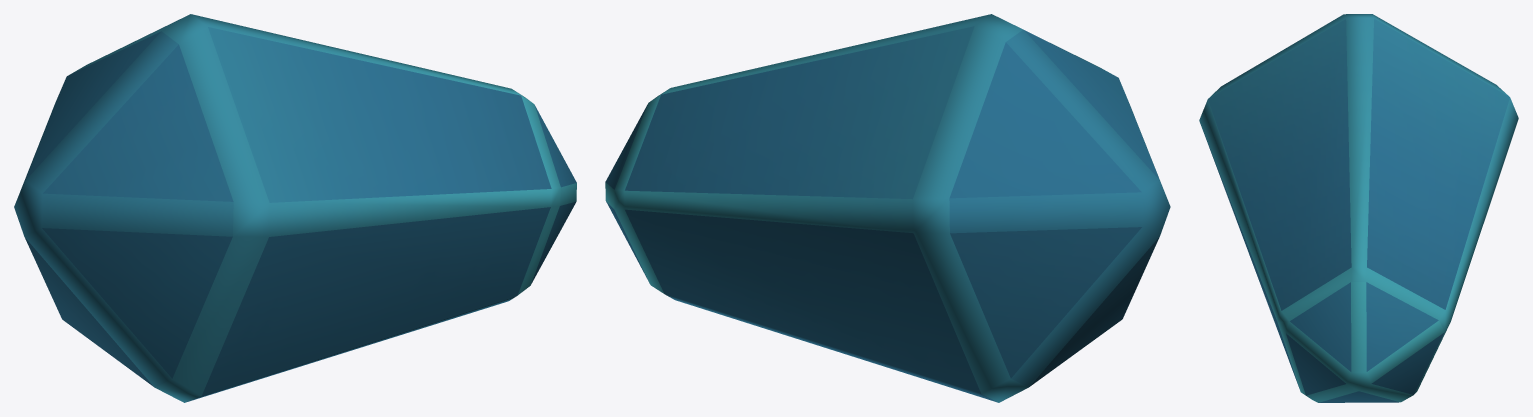
File: christal_saphire_3.fbx
The picture shows the model from 3 angles, left to right: view 1: azimuth 30°, elevation 25°; view 2: azimuth 150°, elevation 25°; view 3: azimuth 270°, elevation 25°; orthographic projection. The views are drawn at different scales.
Visible parts, largest first — view 1: christal_saphire_3; view 2: christal_saphire_3; view 3: christal_saphire_3.
Boxes of the visible parts, <box> form: christal_saphire_3: <box>14,14,576,402</box>; christal_saphire_3: <box>605,14,1170,402</box>; christal_saphire_3: <box>1199,14,1518,402</box>.
Bounding box in the file's own units: 69.47 × 39.84 × 42.77.
1 material, 1 textured.
